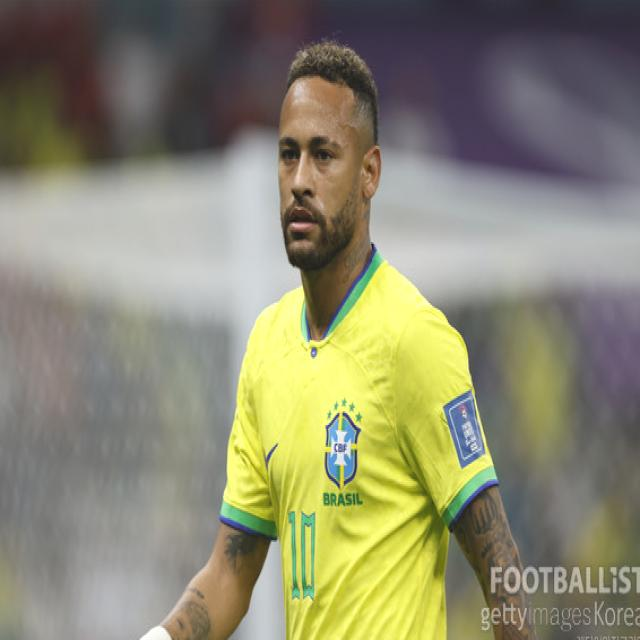neymar: (279, 50, 384, 263)
